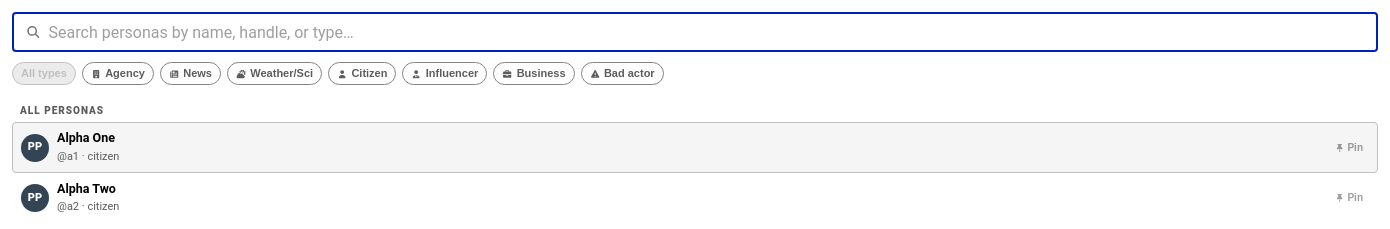
PersonaPicker — loading state (Gate-1 S-2) › shows the empty-search message once loaded, not the loading row
Expected: the option with test id "persona-picker-option-a-1" is shown, [12,122,1378,173]
Type "zzz-no-match" into the field with test id "persona-picker-search" at (713, 32), box [49,12,1378,52]
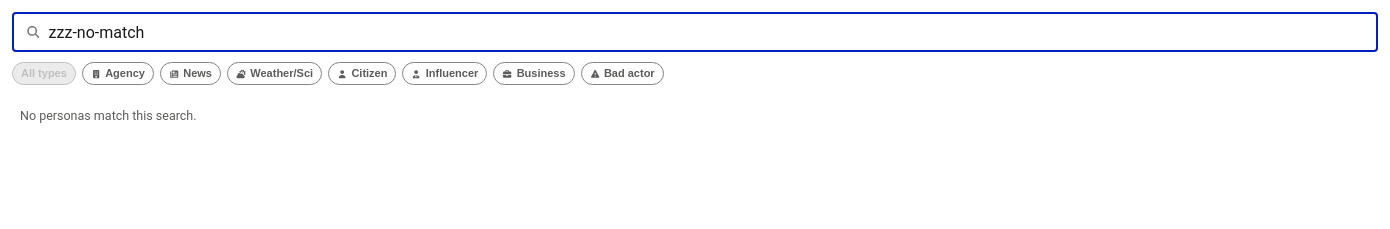
Now the text "No personas match this search." is shown, box [20,108,196,123]
